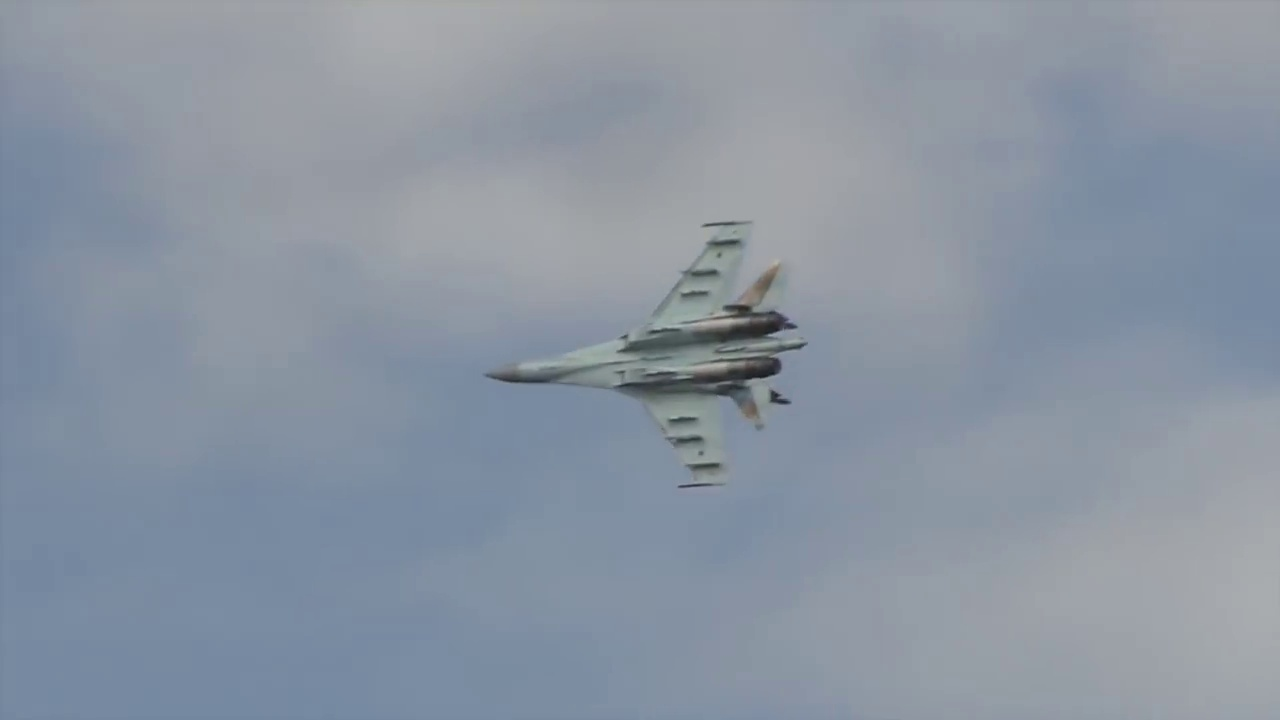Su35: (477, 213, 813, 495)
